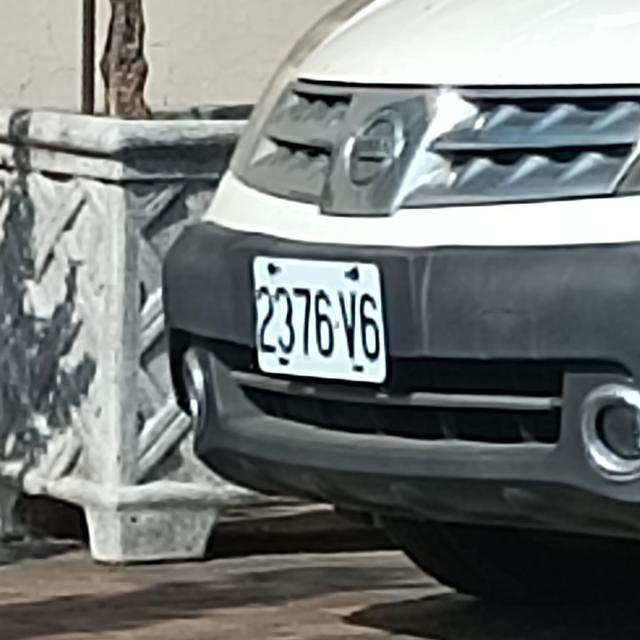W: (249, 254, 396, 384)
